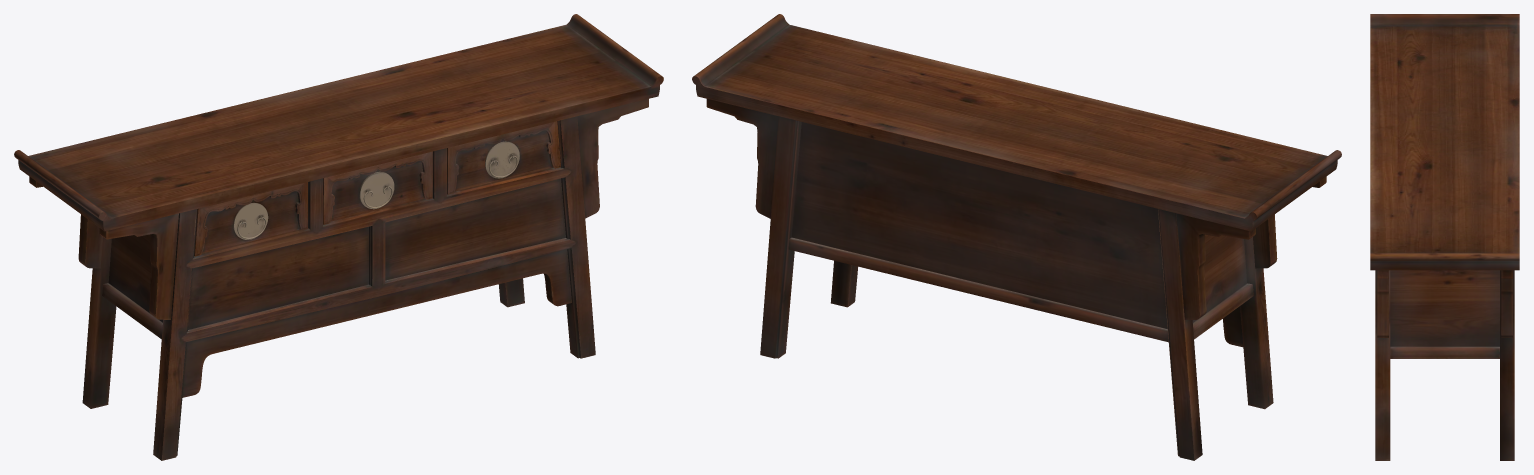
File: furniture_chinese_commode.glb
The picture shows the model from 3 angles, left to right: view 1: azimuth 30°, elevation 25°; view 2: azimuth 150°, elevation 25°; view 3: azimuth 270°, elevation 25°; orthographic projection. The views are drawn at different scales.
Parts seen in each view (by area): view 1: chinese_commode, chinese_commode_drawer_03, chinese_commode_drawer_01, chinese_commode_drawer_02; view 2: chinese_commode; view 3: chinese_commode.
Boxes of the visible parts, x1,y1,x2,y2 form: chinese_commode: (14,14,663,460); chinese_commode_drawer_03: (447,121,560,194); chinese_commode_drawer_01: (194,182,307,256); chinese_commode_drawer_02: (323,151,432,224); chinese_commode: (692,14,1341,460); chinese_commode: (1370,14,1519,460).
Bounding box in the file's own units: 4.49 × 2.02 × 1.17.
Materials: 1 (1 with a texture image).
